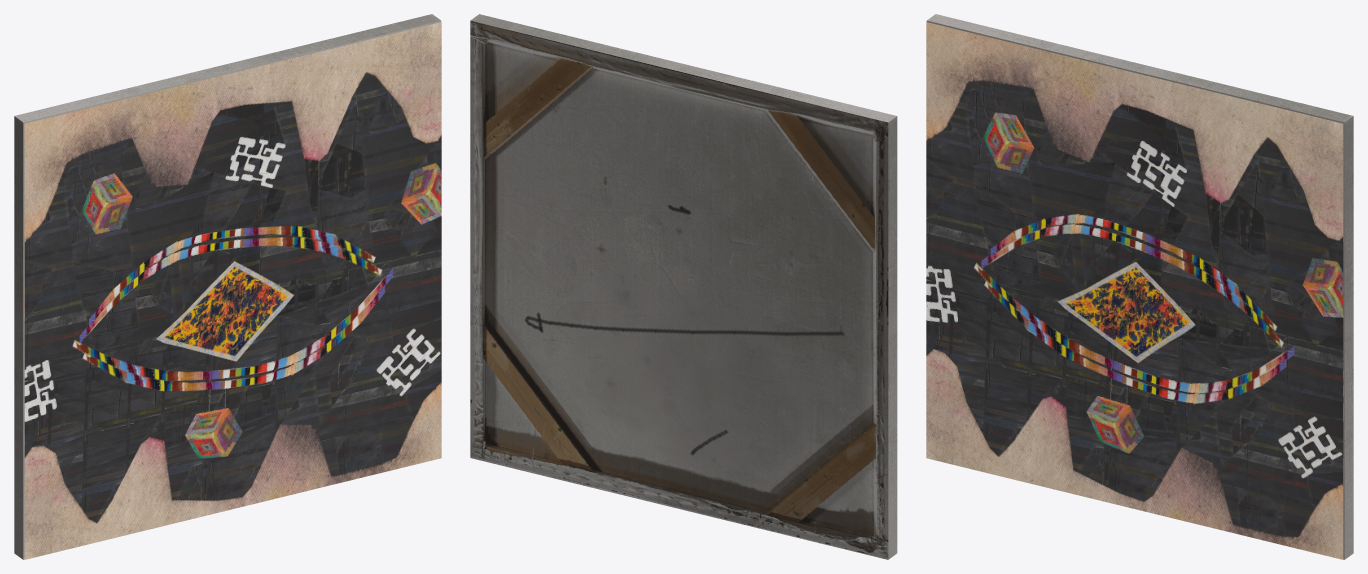
Rendered from body-94ec8479.glb.
3 renders of one model, left to right at view 1: azimuth 30°, elevation 25°; view 2: azimuth 150°, elevation 25°; view 3: azimuth 330°, elevation 25°, orthographic.
Parts seen in each view (by area): view 1: Canvas, stretcher; view 2: stretcher, SignatureCanvas; view 3: Canvas, stretcher.
Part boxes in pixels (x1,y1,x2,y2): Canvas: [24, 22, 441, 559]; stretcher: [14, 14, 441, 559]; stretcher: [470, 14, 897, 559]; SignatureCanvas: [524, 204, 844, 455]; Canvas: [926, 22, 1343, 559]; stretcher: [926, 14, 1353, 559].
Size of the model in its own units: 3.04 by 3.04 by 0.155.
4 materials, 4 textured.
